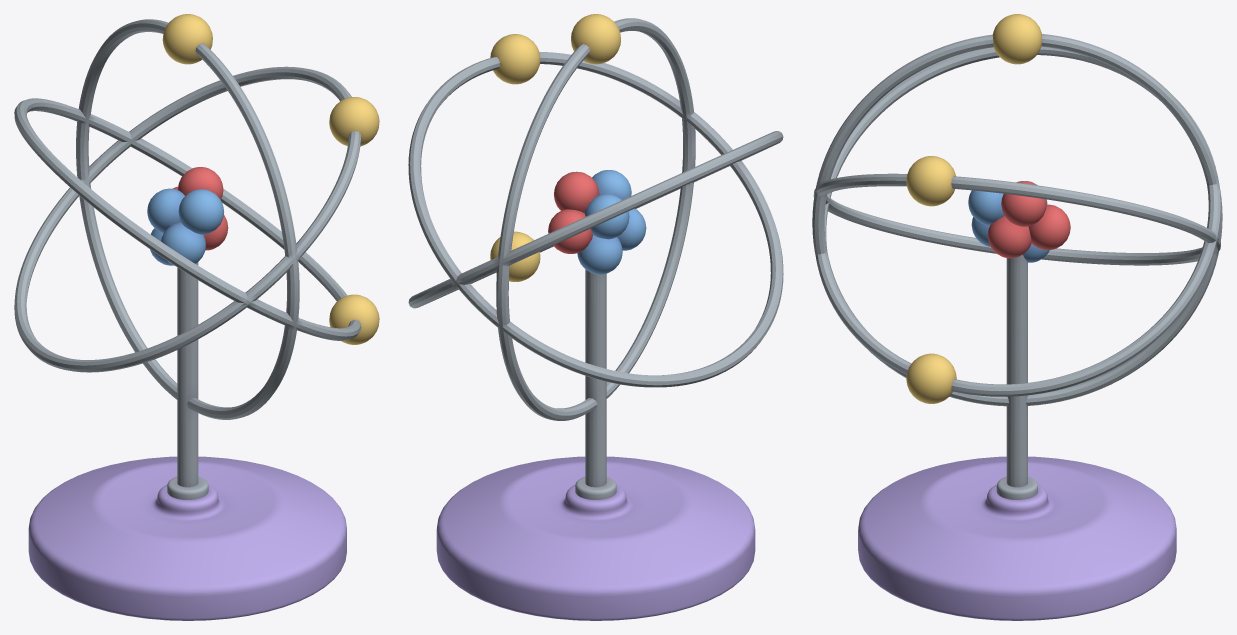
File: atom-model.glb
The picture shows the model from 3 angles, left to right: view 1: azimuth 30°, elevation 25°; view 2: azimuth 150°, elevation 25°; view 3: azimuth 270°, elevation 25°; orthographic projection.
Visible parts, largest first — view 1: atom-model_body; view 2: atom-model_body; view 3: atom-model_body.
Boxes of the visible parts, box(x1,y1,x2,y2) form: atom-model_body: box(14, 14, 379, 620); atom-model_body: box(408, 14, 783, 620); atom-model_body: box(812, 14, 1222, 620).
Bounding box in the file's own units: 0.1296 × 0.2239 × 0.1545.
Materials: 1 (1 with a texture image).
